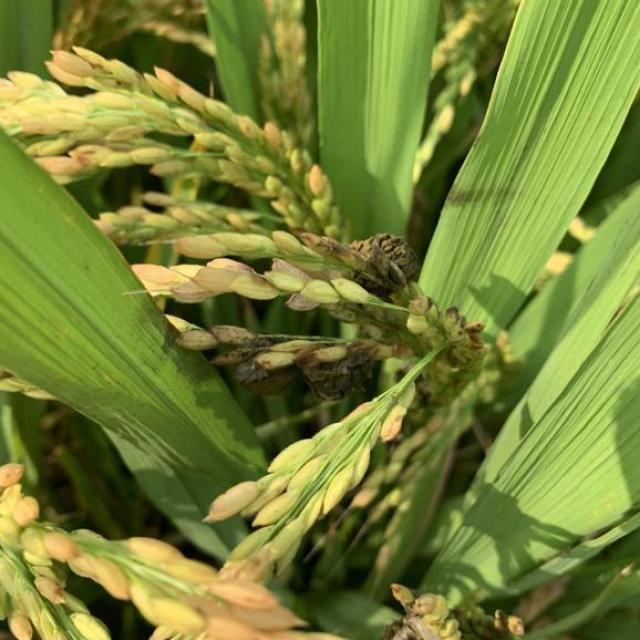Leaf_Scald: (225, 336, 378, 403), (337, 232, 427, 304), (380, 607, 480, 640)
